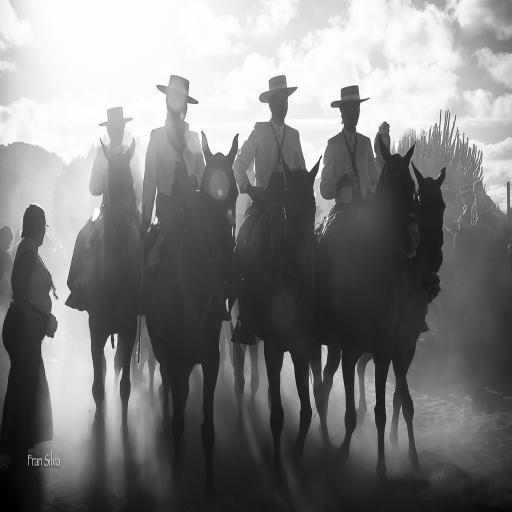horse: (80, 132, 448, 506)
